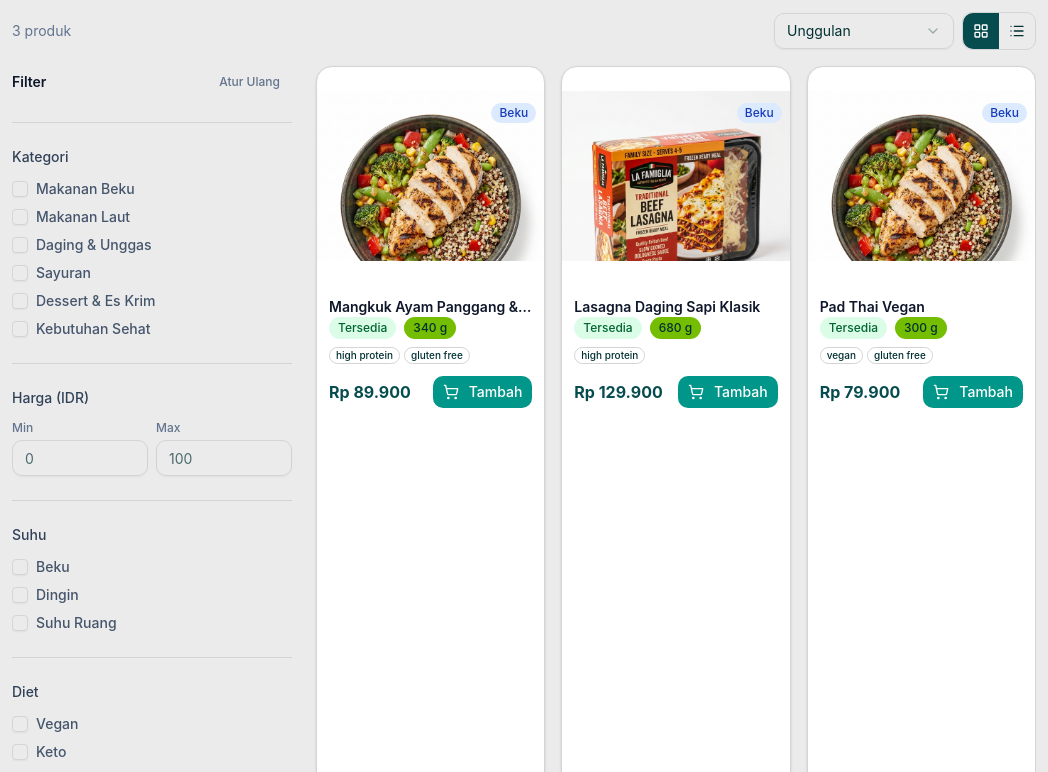
Scenario: ProductGallery view mode › toggles grid/list and persists view mode
Click the button named "tampilan daftar" at (1017, 31), box [999, 13, 1035, 49]
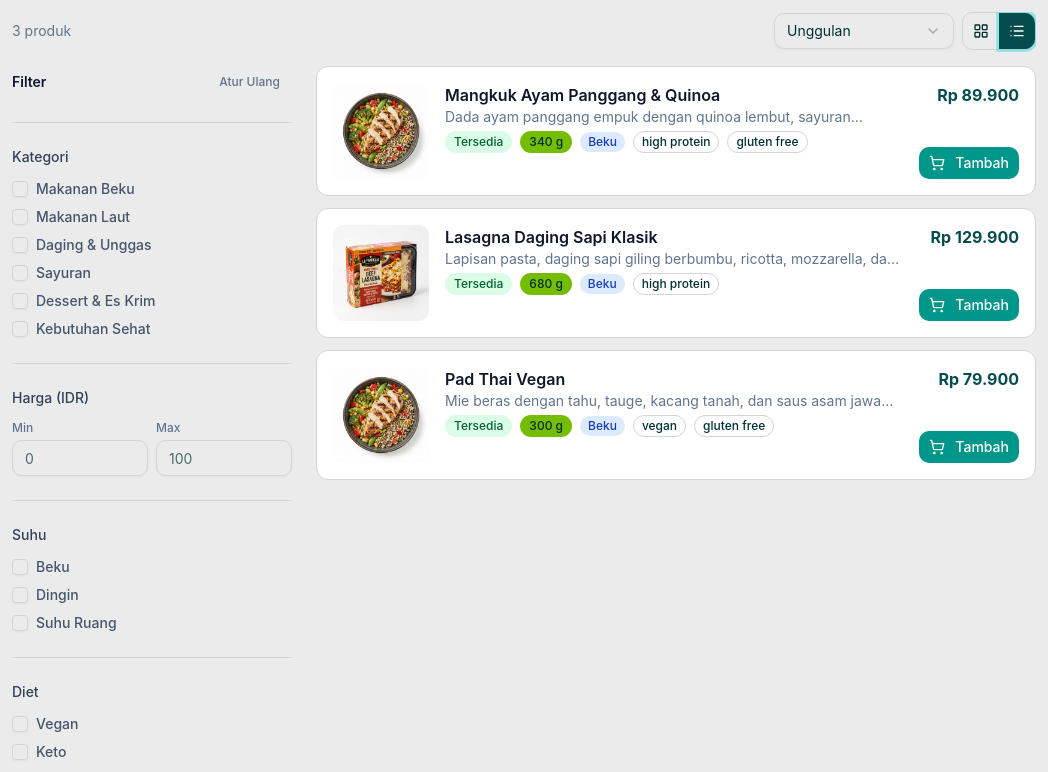
Expected: the element with test id "product-list-row" that starts with "Mangkuk Ayam Panggang & Quinoa" is shown, [316, 66, 1036, 196]
